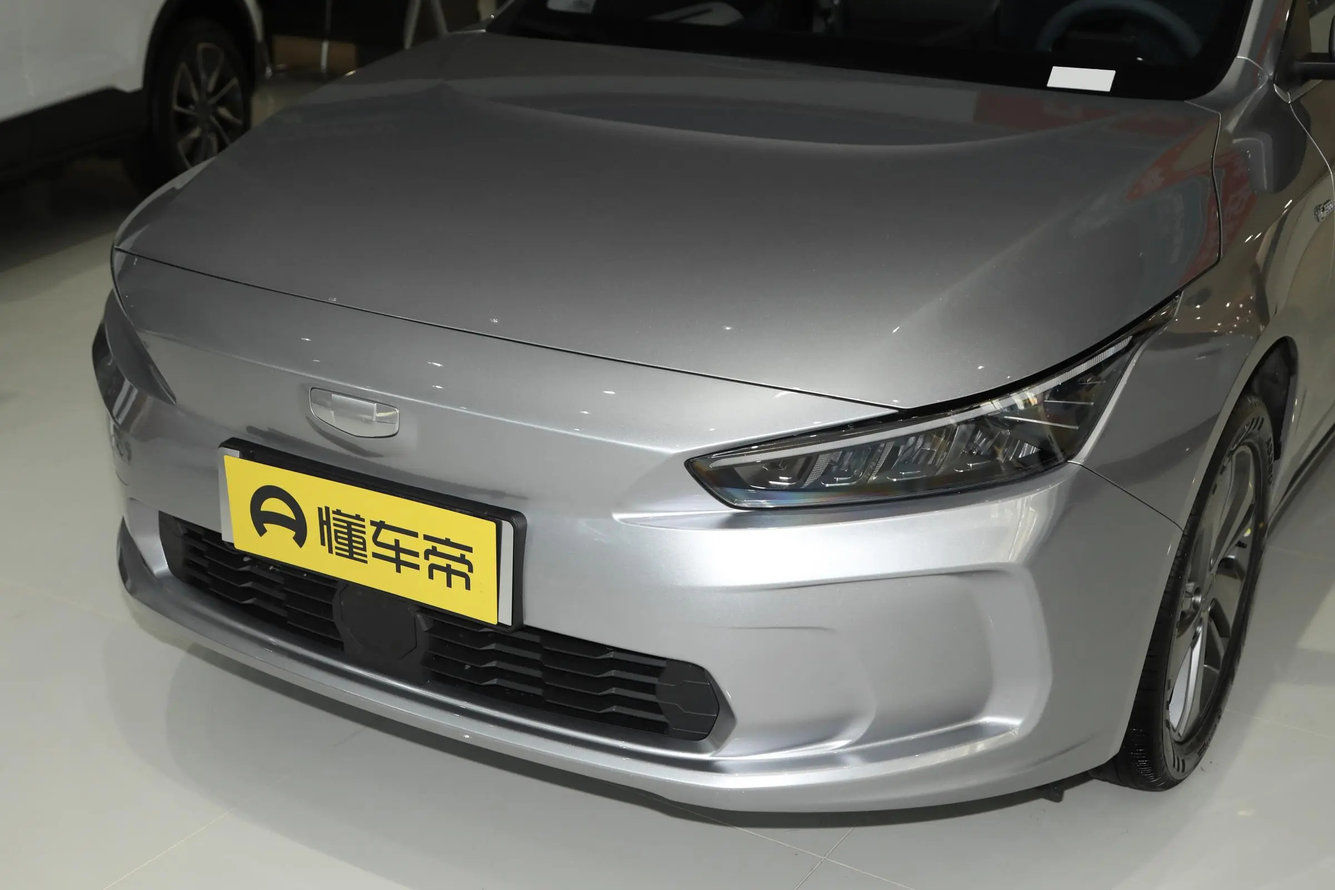GEOMETRY: (310, 390, 397, 436)
